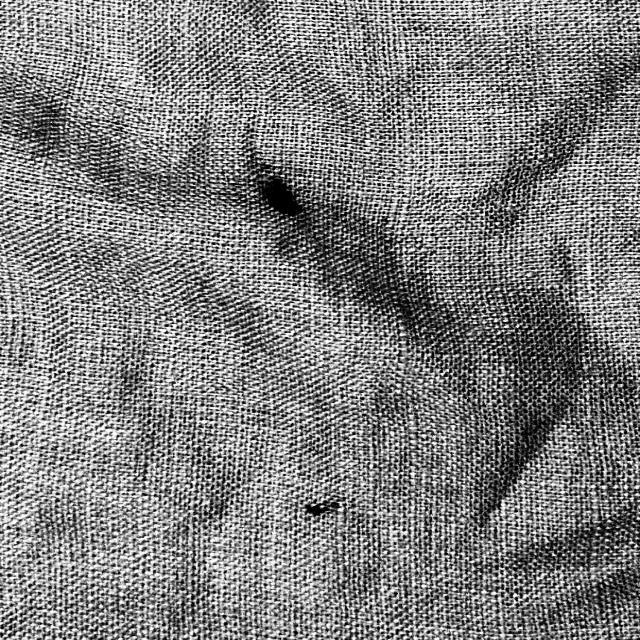Color_defect: (256, 168, 297, 213), (298, 491, 334, 520)
